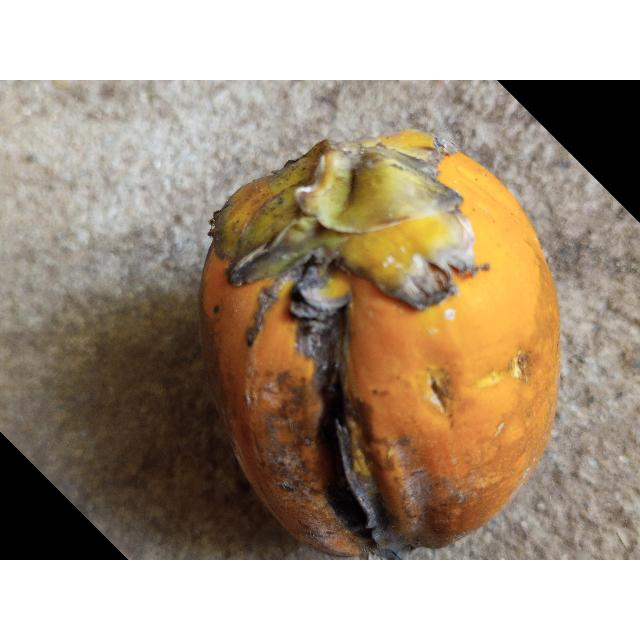damaged: (201, 131, 559, 558)
